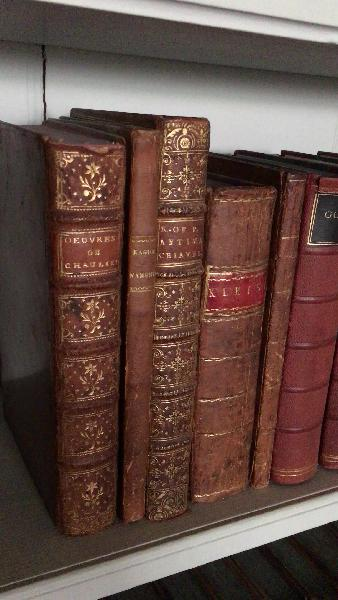Aa6-10: (247, 153, 300, 508)
Aa6-6: (45, 133, 125, 539)
Aa6-7: (122, 125, 157, 529)
Aa6-8: (148, 105, 209, 534)
Aa6-9: (195, 162, 266, 502)
